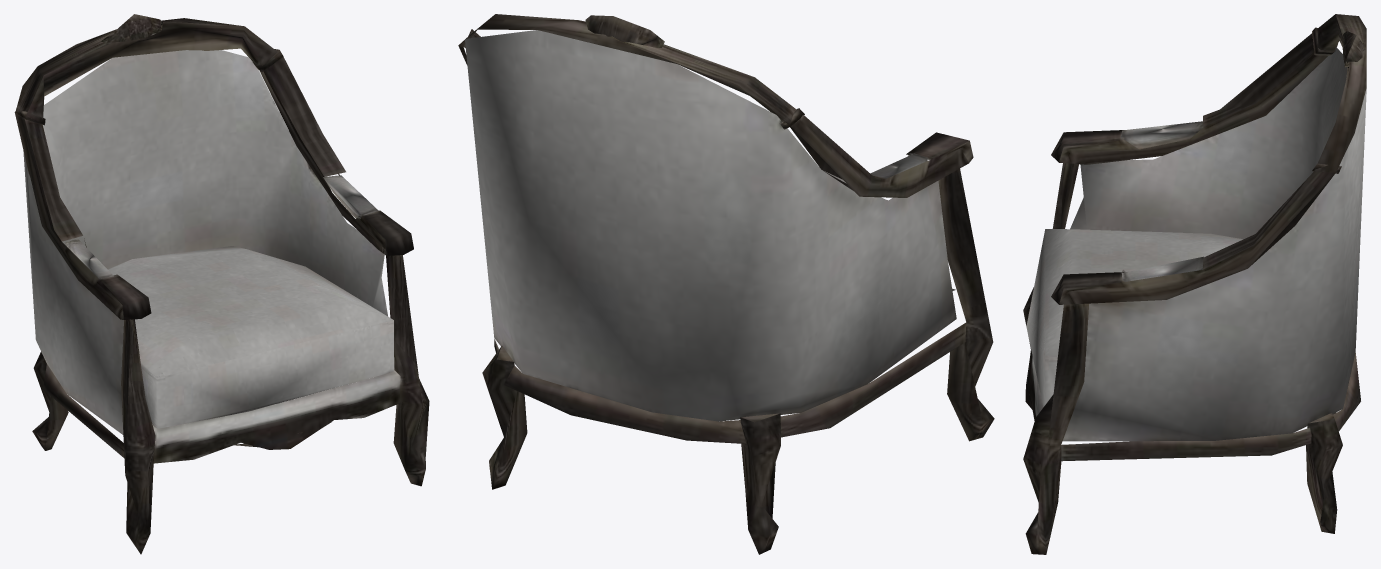
The model's file is ArmChair_01.glb.
3 views of the same model, side by side, from view 1: azimuth 30°, elevation 25°; view 2: azimuth 150°, elevation 25°; view 3: azimuth 270°, elevation 25° (orthographic). The views are drawn at different scales.
Visible parts, largest first — view 1: ArmChair_01; view 2: ArmChair_01; view 3: ArmChair_01.
Boxes of the visible parts, x1=… form: ArmChair_01: x1=14, y1=14, x2=429, y2=554; ArmChair_01: x1=458, y1=14, x2=994, y2=554; ArmChair_01: x1=1023, y1=14, x2=1366, y2=554.
Size of the model in its own units: 0.8482 by 1.06 by 0.7482.
Materials: 1 (1 with a texture image).
